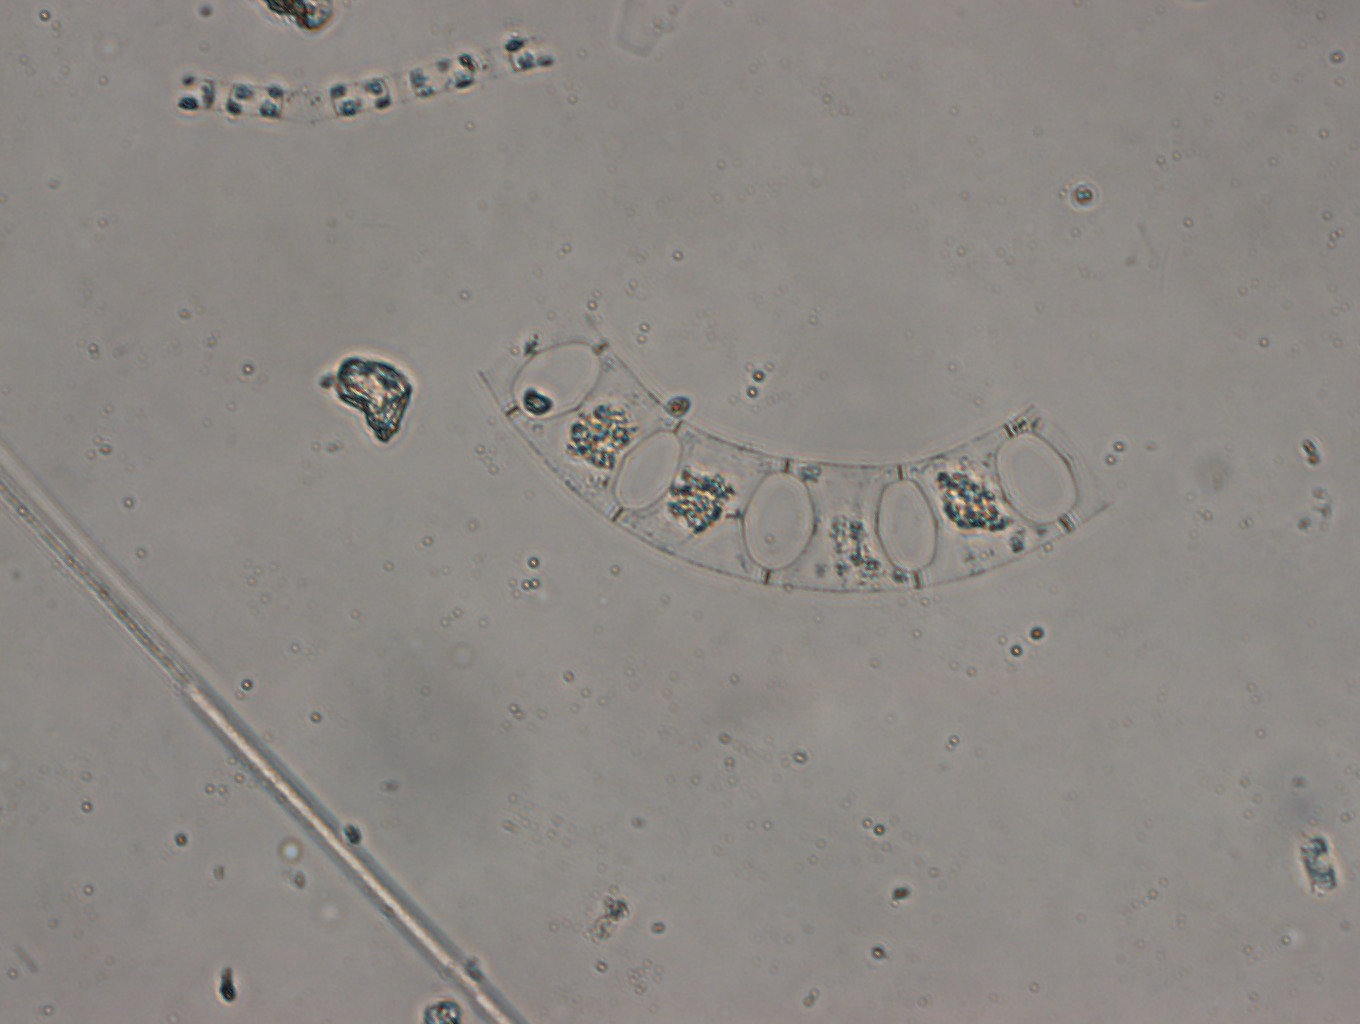eucampia: (477, 310, 1126, 600)
skeletonema: (168, 31, 555, 125)
